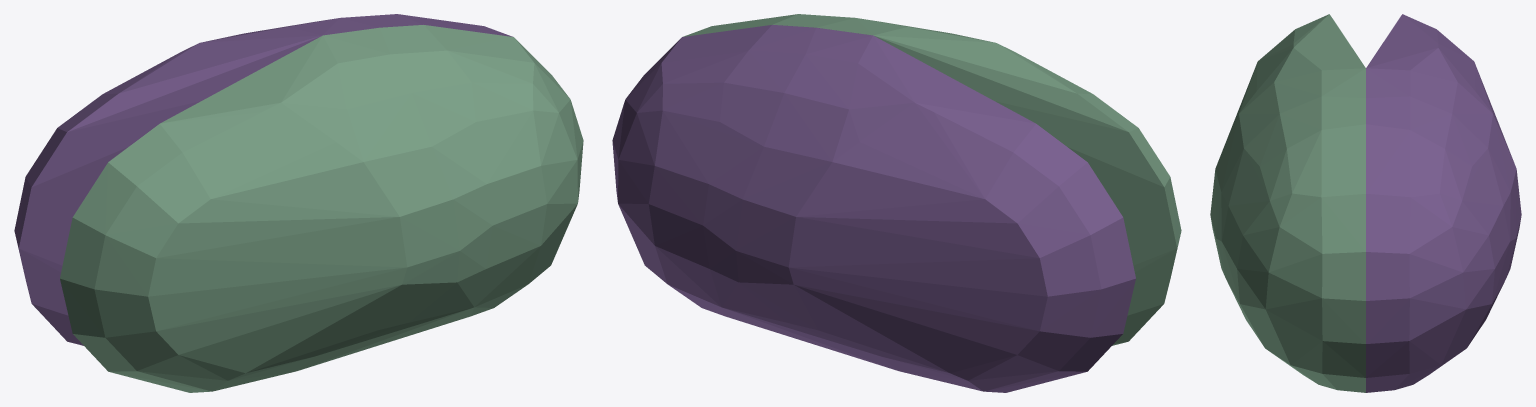
The model's file is finger_tip.obj.
3 views of the same model, side by side, from view 1: azimuth 30°, elevation 25°; view 2: azimuth 150°, elevation 25°; view 3: azimuth 270°, elevation 25° (orthographic). The views are drawn at different scales.
Visible parts, largest first — view 1: geometry_0, geometry_1; view 2: geometry_1, geometry_0; view 3: geometry_0, geometry_1.
Part boxes in pixels (x1,y1,x2,y2): geometry_0: (60,25,583,392); geometry_1: (14,14,512,345); geometry_1: (612,24,1135,392); geometry_0: (683,14,1181,345); geometry_0: (1210,14,1365,392); geometry_1: (1366,14,1521,392).
Size of the model in its own units: 0.0297 by 0.0167 by 0.0171.
